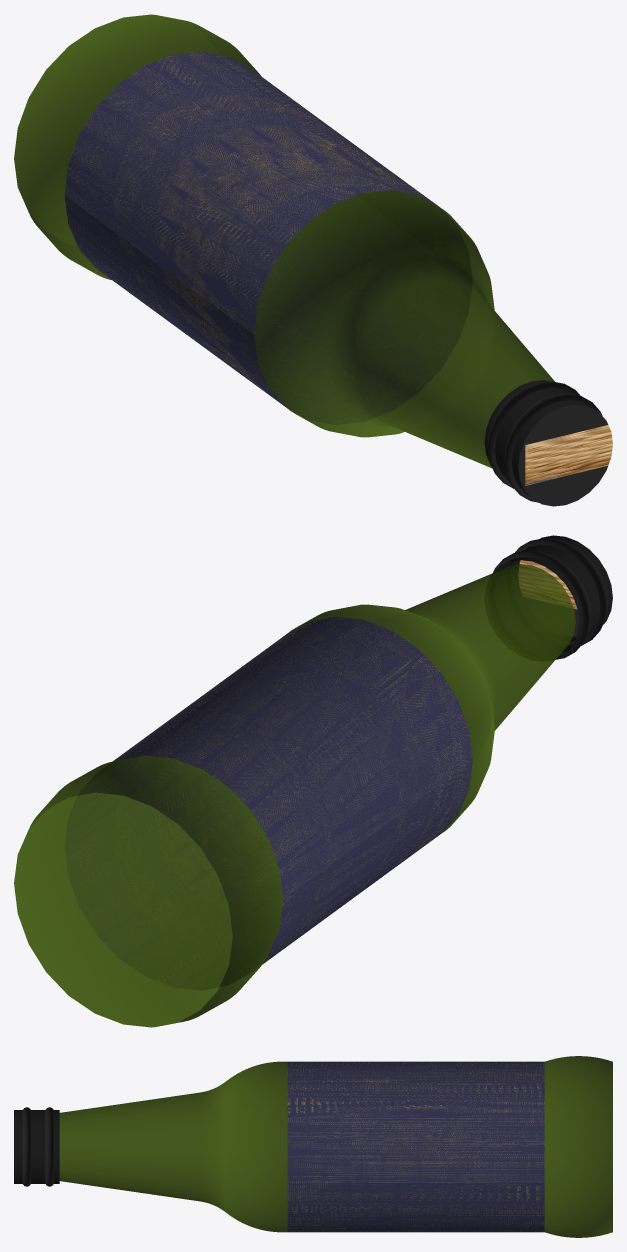
Rendered from model_align.obj.
The picture shows the model from 3 angles, top to bottom: view 1: azimuth 30°, elevation 25°; view 2: azimuth 150°, elevation 25°; view 3: azimuth 270°, elevation 25°; orthographic projection. The views are drawn at different scales.
Visible parts, largest first — view 1: mesh1_mesh1-geometry, mesh2_mesh2-geometry; view 2: mesh1_mesh1-geometry, mesh2_mesh2-geometry; view 3: mesh1_mesh1-geometry, mesh2_mesh2-geometry.
Boxes of the visible parts, bbox=[...] form: mesh1_mesh1-geometry: bbox=[14, 14, 554, 468]; mesh2_mesh2-geometry: bbox=[484, 380, 612, 506]; mesh1_mesh1-geometry: bbox=[14, 564, 575, 1027]; mesh2_mesh2-geometry: bbox=[488, 535, 612, 659]; mesh1_mesh1-geometry: bbox=[59, 1056, 612, 1237]; mesh2_mesh2-geometry: bbox=[14, 1107, 59, 1186].
Bounding box in the file's own units: 0.0416 × 0.0416 × 0.1365.
